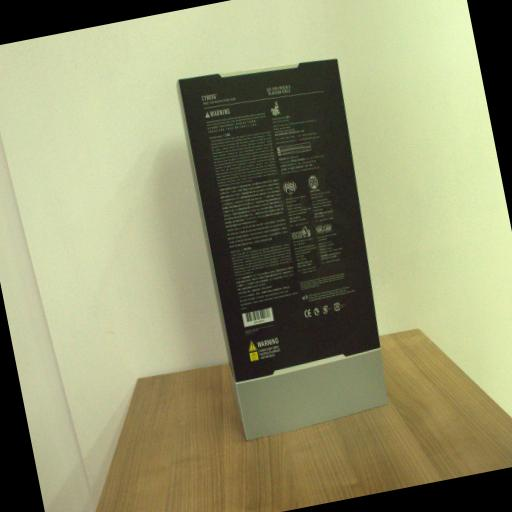Cyborg: (173, 46, 405, 442)
